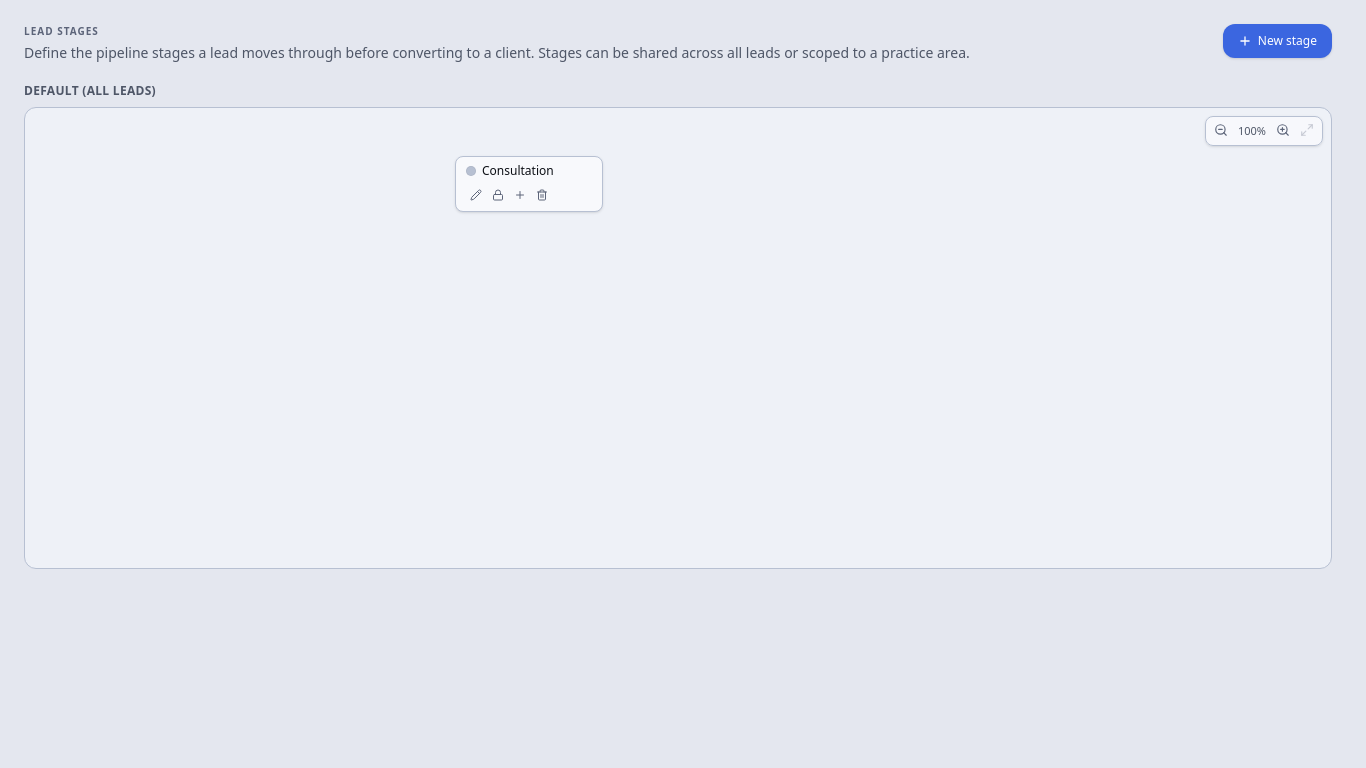
shows a refused stage delete inside the still-open confirm dialog
(page scrolled)
Click the button named "Delete".
click(542, 195)  # box [532,185,552,205]
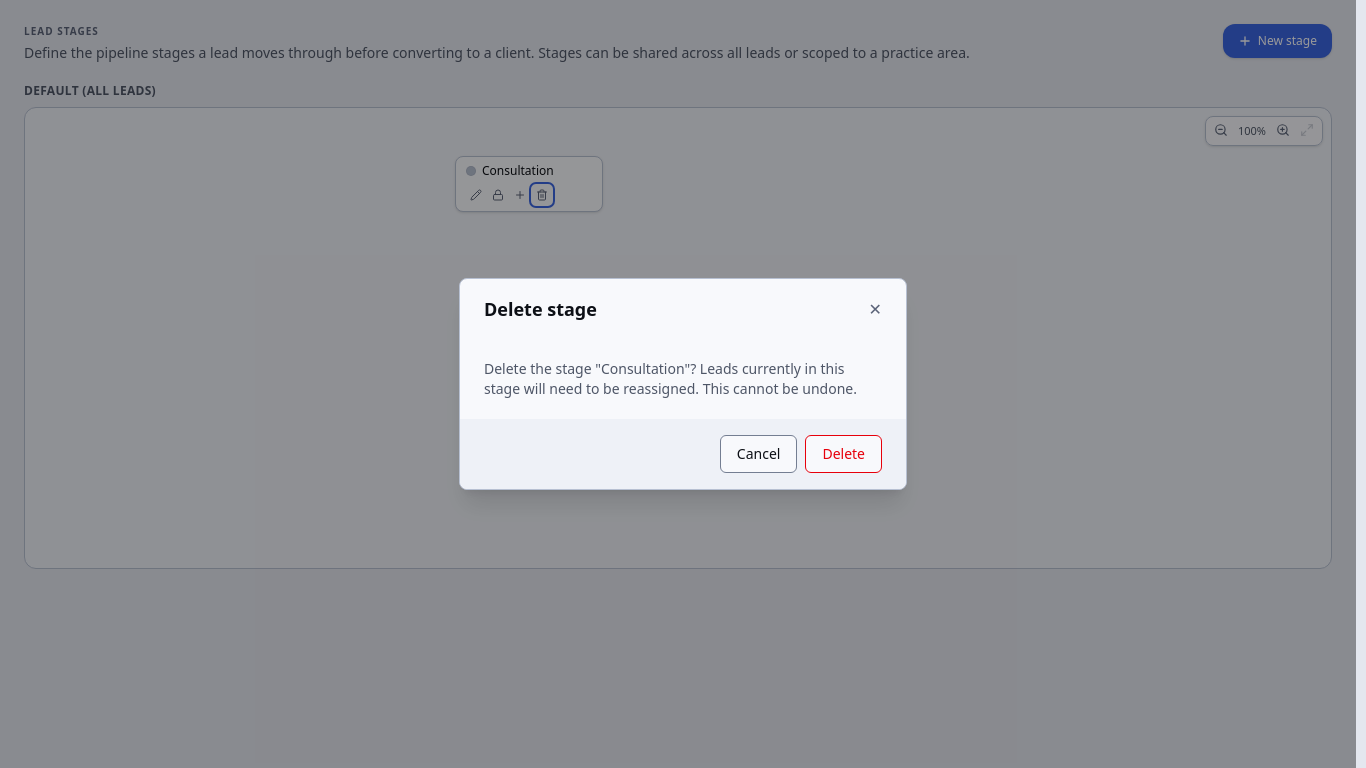
Click the button "Delete".
click(844, 454)  # box [805,435,882,473]
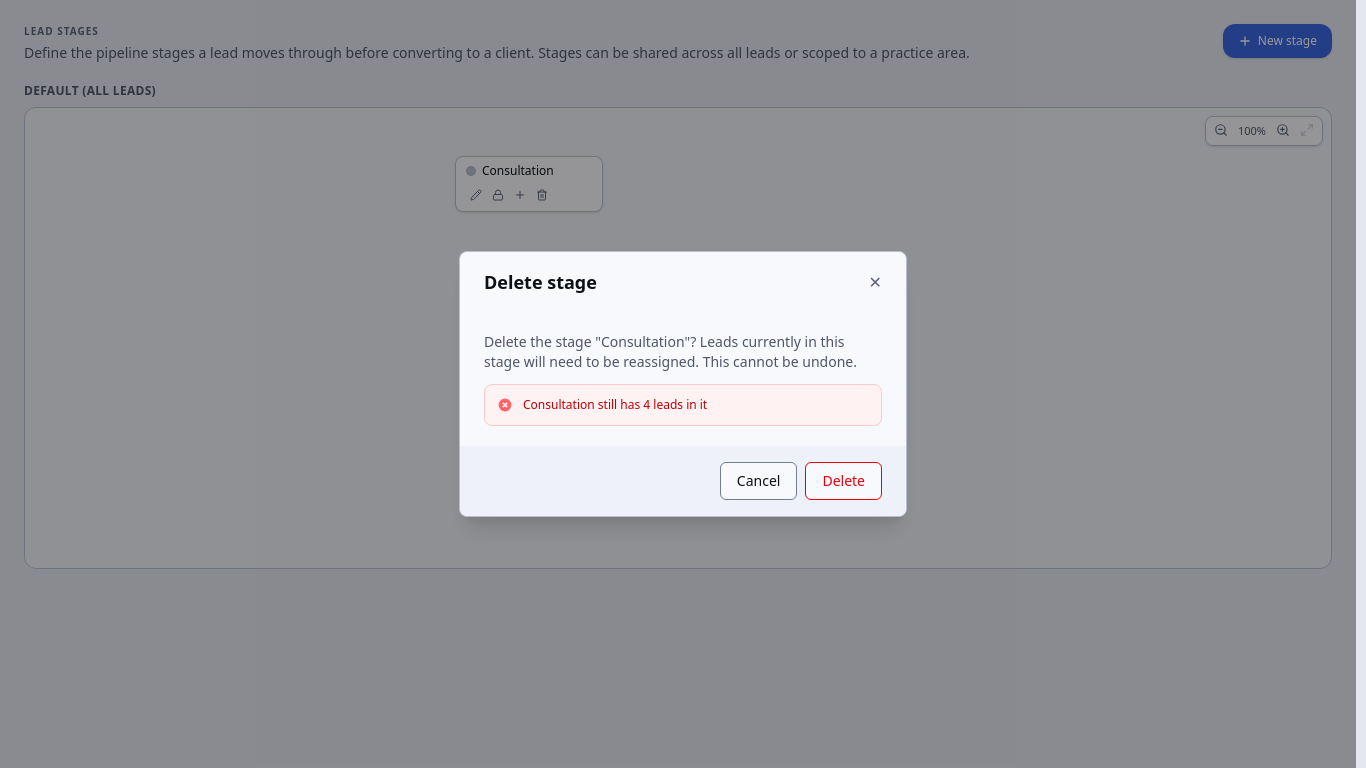
Expected: the message reads "Consultation still has 4 leads in it", [523,396,707,413]
Expected: the number of messages is 1, [484,384,882,426]
